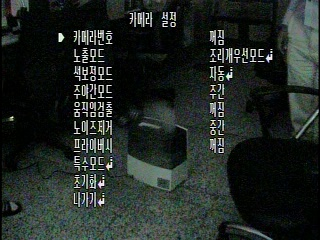smoke: (141, 100, 179, 135)
